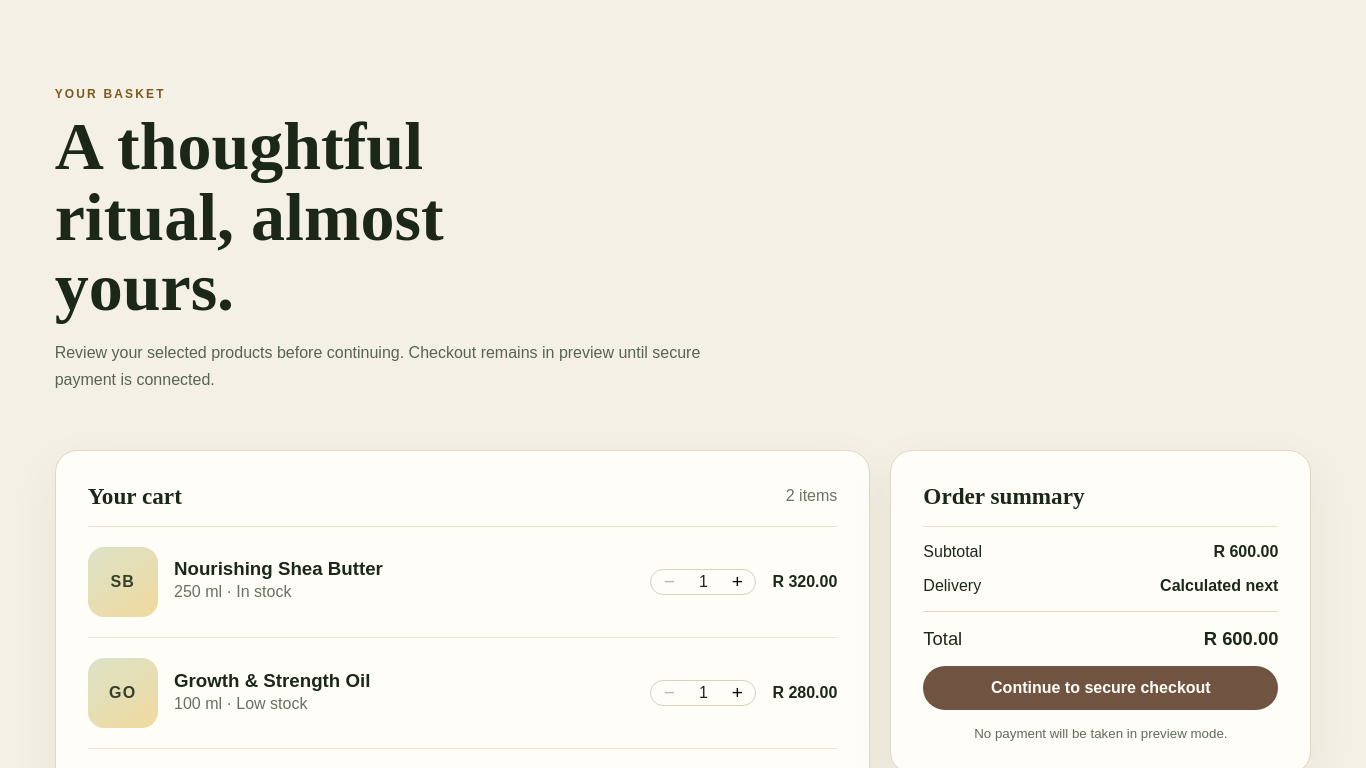
Test: CommerceScreen › updates cart quantities and totals
Click the button named "increase nourishing shea butter". click: (737, 582)
box: [719, 570, 755, 594]
(page scrolled)
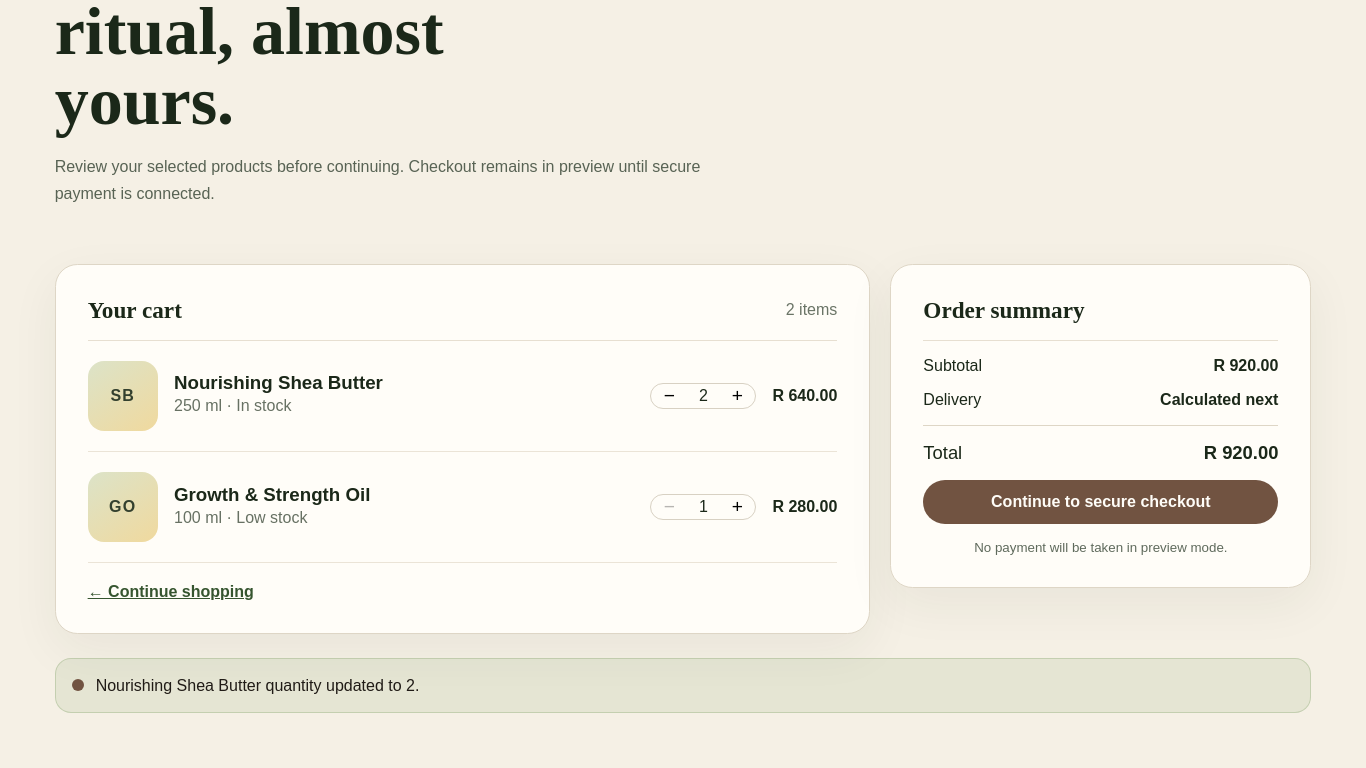
expect the text "R 920.00" is shown 2 times: met, box [1213, 356, 1278, 374]; [1204, 442, 1278, 464]
expect the text "Nourishing Shea Butter quantity updated to 2." is shown: met, box [96, 674, 419, 698]
